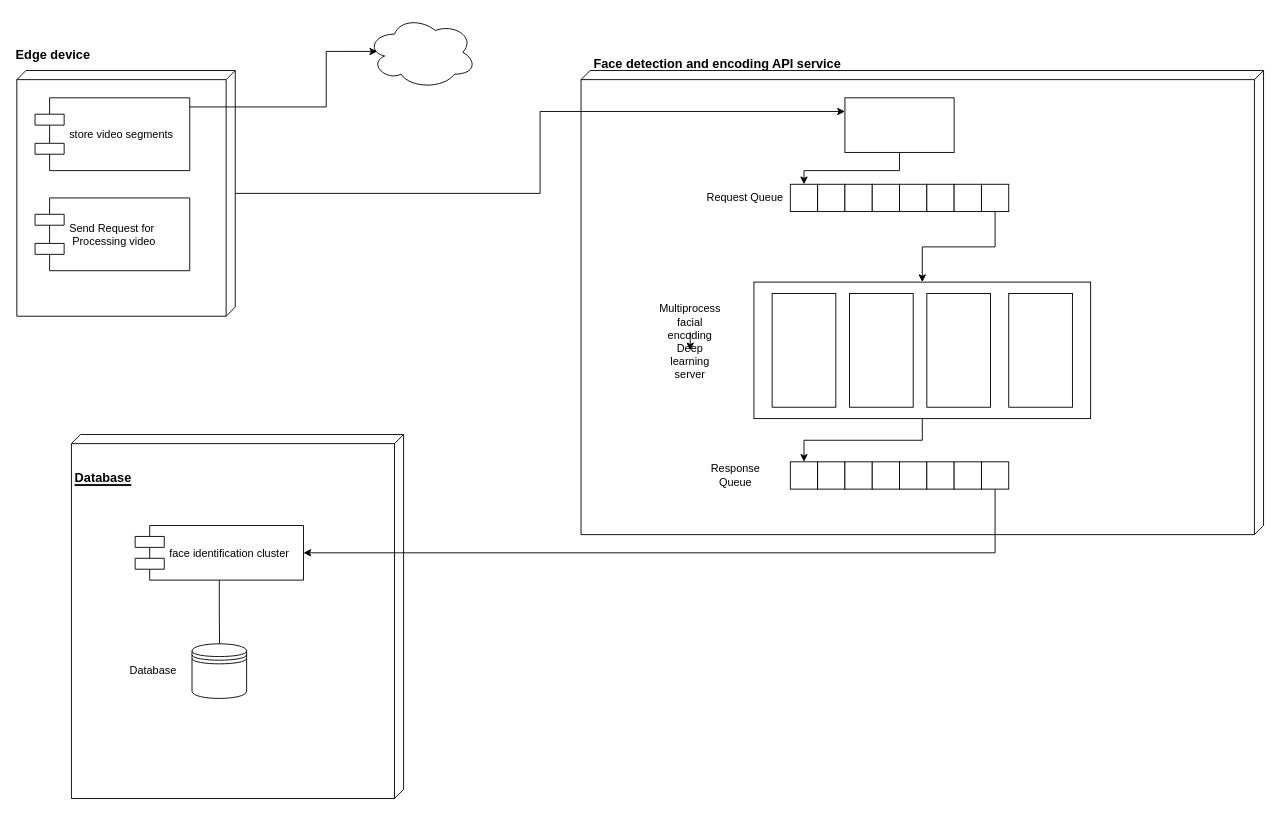
Image size: 1279x814. Some labels were removed from this diagram. Each missing label, with the centre of its shape:
Cloud Storage: the point at 421,52
Flask Endpoint: the point at 899,124
